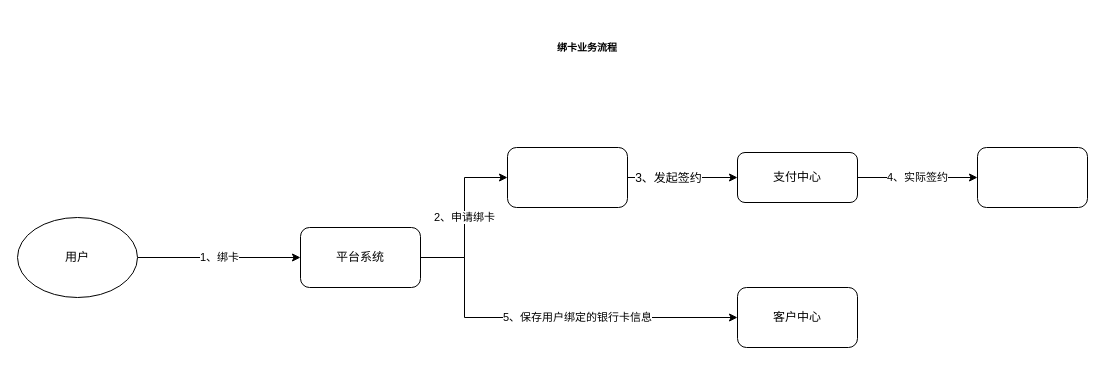
Image size: 1105x365. Some labels were removed from this diagram. Here are the shapes that lost their labels. From the top down, the box of each, then its label:
(506, 146, 628, 208): 订单中心
(976, 146, 1088, 208): 第三方支付渠道（京东支付、宝付等）
